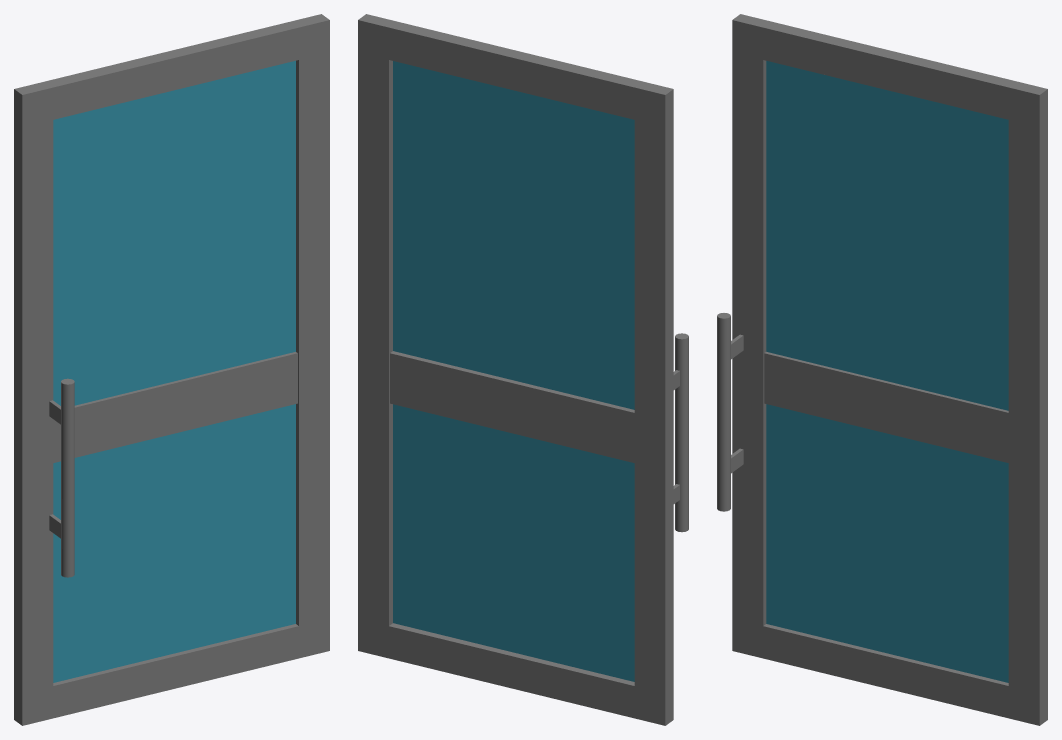
The model's file is SM_door_03.fbx.
3 renders of one model, left to right at view 1: azimuth 30°, elevation 25°; view 2: azimuth 150°, elevation 25°; view 3: azimuth 330°, elevation 25°, orthographic.
Visible parts, largest first — view 1: Box079; view 2: Box079; view 3: Box079.
Boxes of the visible parts, box(x1,y1,x2,y2) form: Box079: box(14, 14, 329, 725); Box079: box(358, 14, 688, 725); Box079: box(717, 14, 1047, 725).
Bounding box in the file's own units: 42.27 × 82.88 × 9.19.
